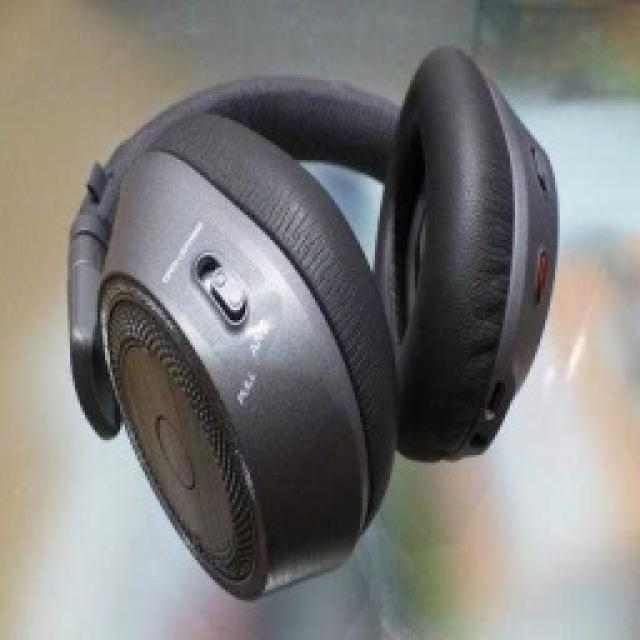headphones: (62, 42, 560, 600)
